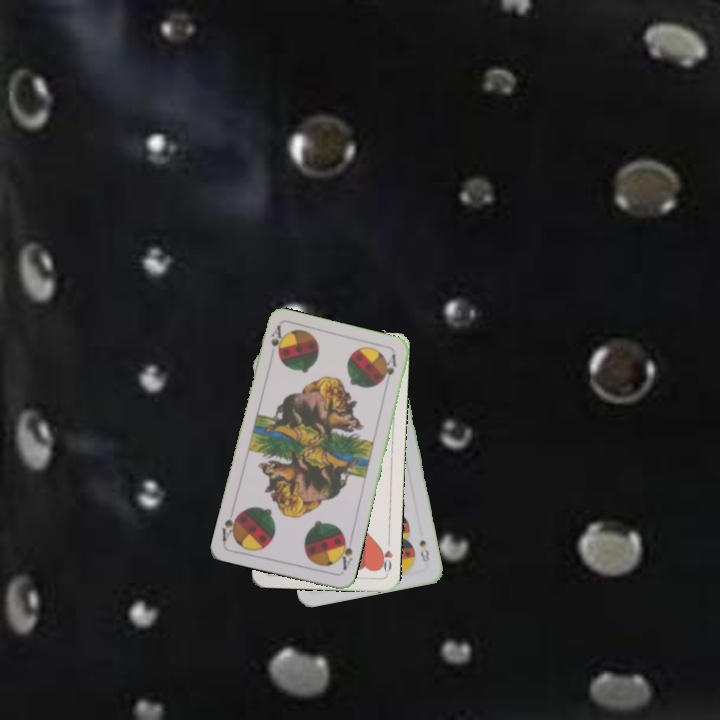HO: (376, 536, 395, 576)
S8: (415, 536, 432, 564)
SA: (334, 533, 355, 573), (267, 322, 286, 358)
